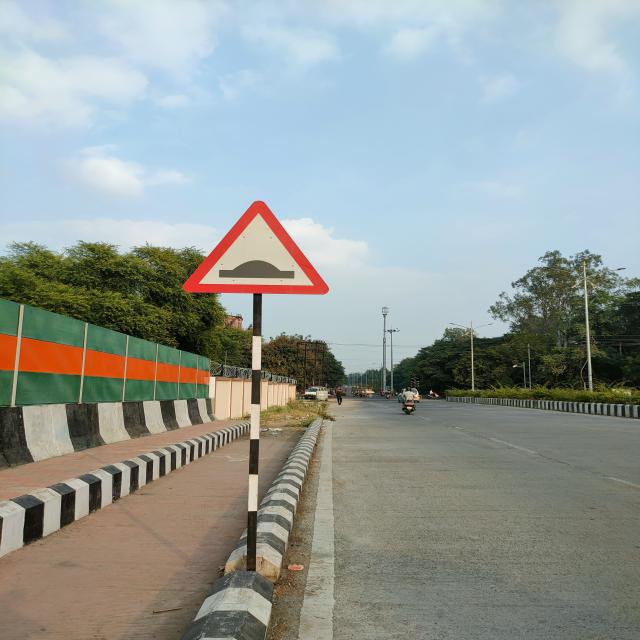HUMP_OR_ROUGH_ROAD: (182, 201, 328, 294)
